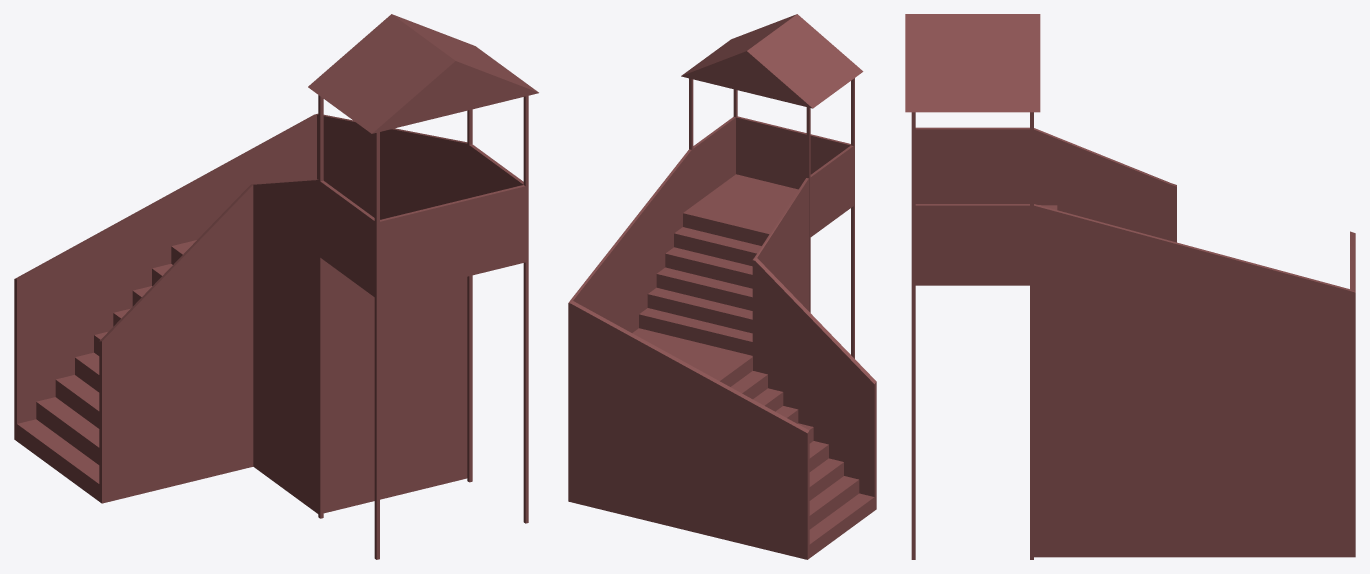
The model's file is tower.fbx.
3 views of the same model, side by side, from view 1: azimuth 30°, elevation 25°; view 2: azimuth 150°, elevation 25°; view 3: azimuth 270°, elevation 25° (orthographic). The views are drawn at different scales.
Parts seen in each view (by area): view 1: polySurface18; view 2: polySurface18; view 3: polySurface18.
Boxes of the visible parts, bbox=[...] form: polySurface18: bbox=[14, 14, 538, 559]; polySurface18: bbox=[568, 14, 876, 559]; polySurface18: bbox=[905, 14, 1355, 559].
Size of the model in its own units: 421 by 624 by 502.
